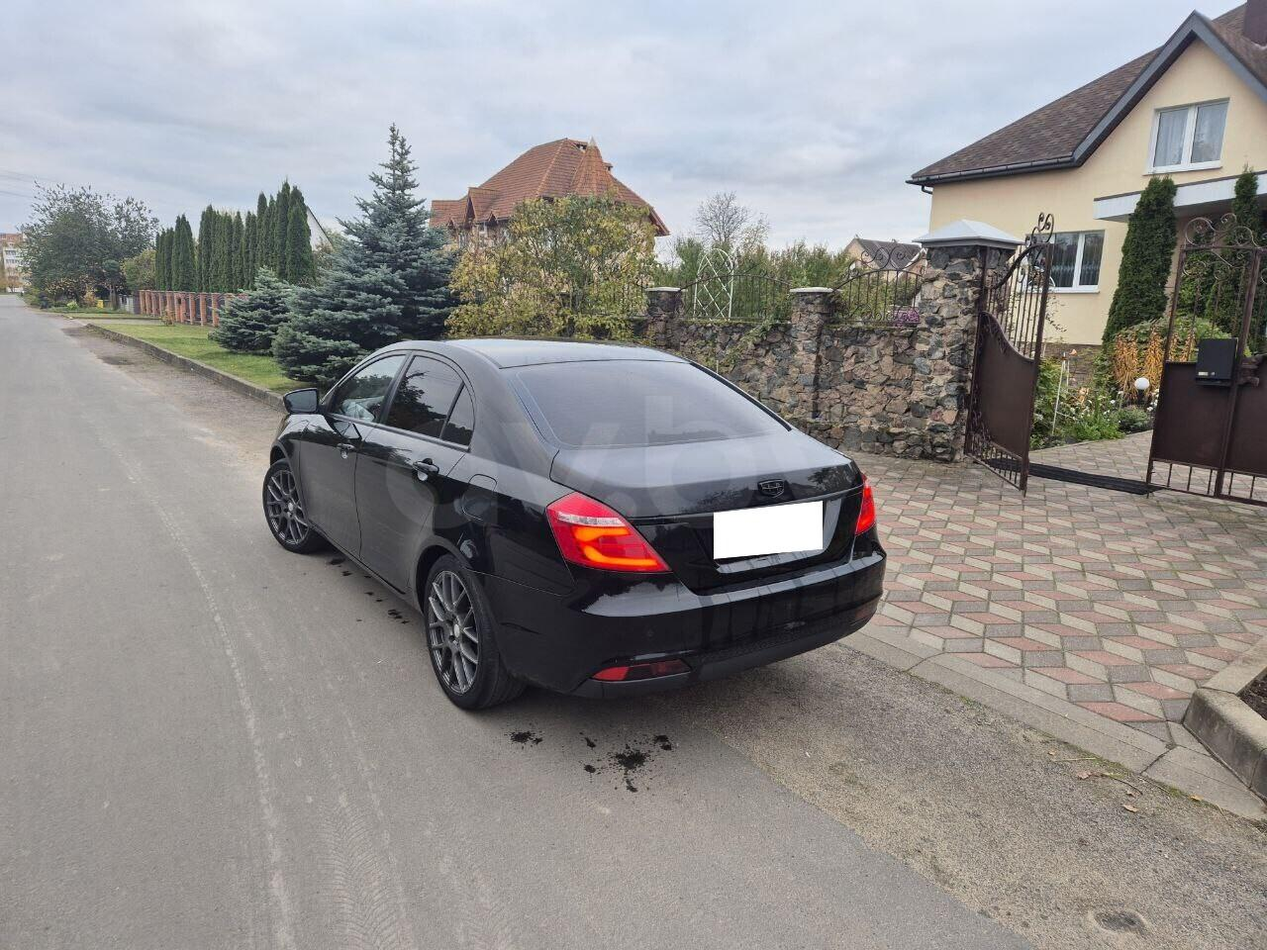Emgrand_2019-2021: (262, 339, 886, 709)
